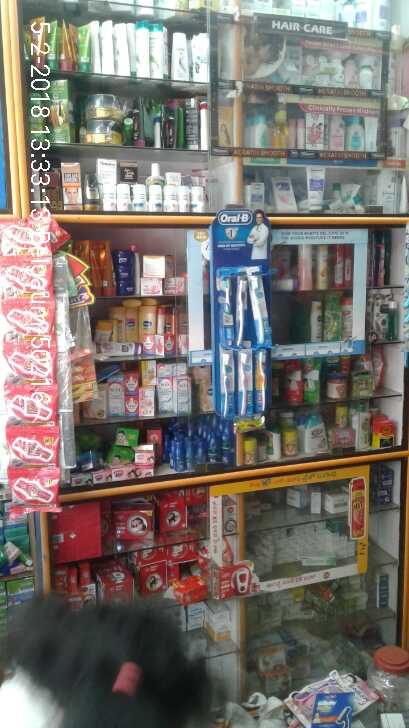oralb: (211, 259, 283, 419)
